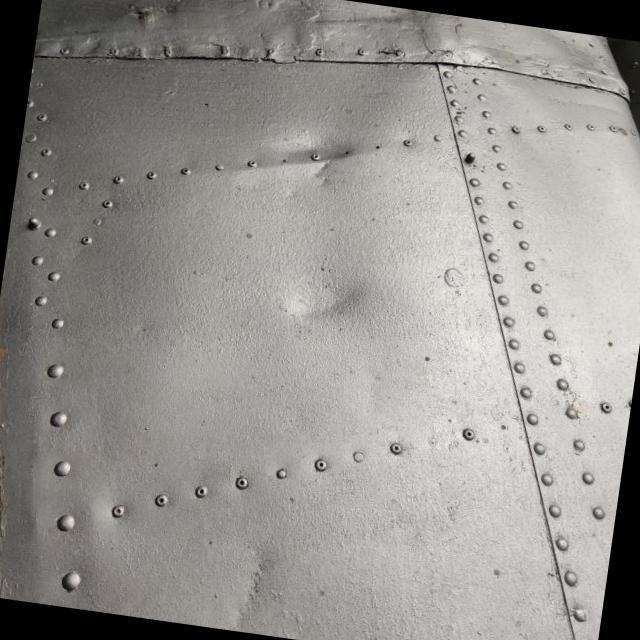Dent: (257, 230, 406, 368), (234, 86, 372, 215)
